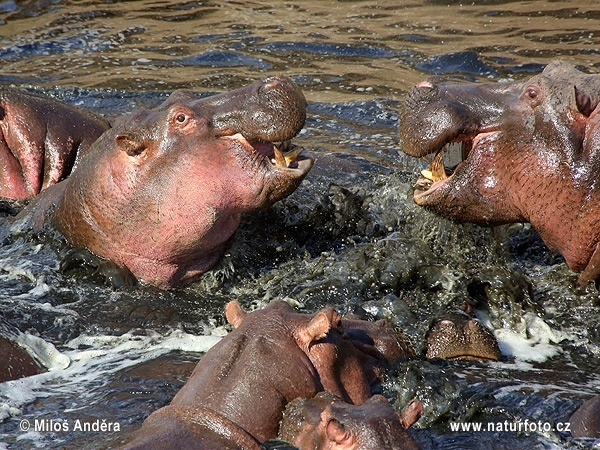hipopotamo: (30, 76, 340, 281), (384, 37, 600, 294), (162, 280, 399, 425), (263, 376, 428, 450)
